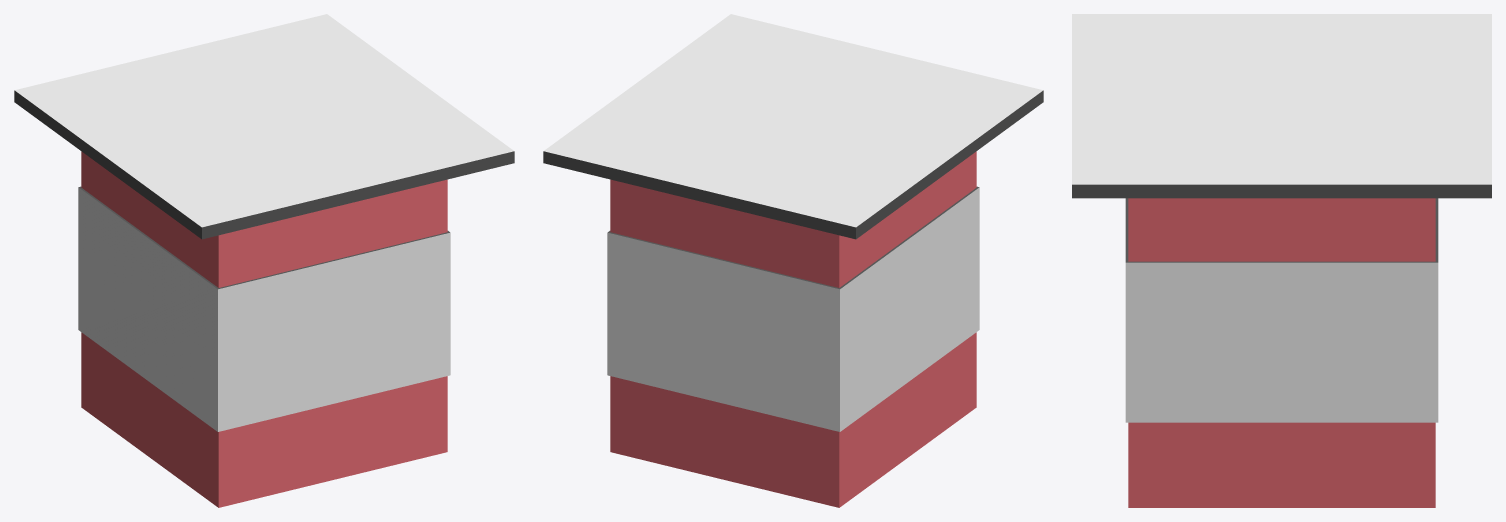
File: Yoghurt.FBX
The picture shows the model from 3 angles, left to right: view 1: azimuth 30°, elevation 25°; view 2: azimuth 150°, elevation 25°; view 3: azimuth 270°, elevation 25°; orthographic projection. The views are drawn at different scales.
Visible parts, largest first — view 1: Box010; view 2: Box010; view 3: Box010.
Boxes of the visible parts, x1=… form: Box010: x1=14, y1=14, x2=514, y2=507; Box010: x1=543, y1=14, x2=1043, y2=507; Box010: x1=1072, y1=14, x2=1491, y2=507.
Size of the model in its own units: 39.08 by 36.92 by 40.58.
